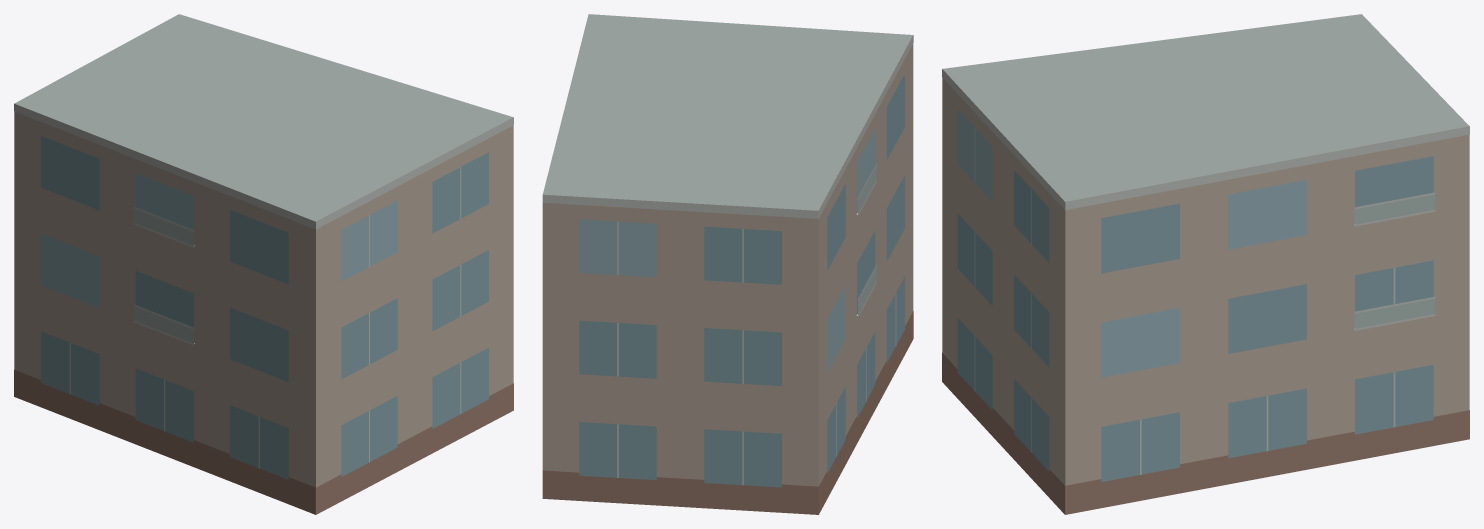
File: survey-upis-32765401.glb
3 renders of one model, left to right at view 1: azimuth 30°, elevation 25°; view 2: azimuth 150°, elevation 25°; view 3: azimuth 270°, elevation 25°, orthographic. The views are drawn at different scales.
Visible parts, largest first — view 1: survey-upis-32765401.tmp; view 2: survey-upis-32765401.tmp; view 3: survey-upis-32765401.tmp.
Part boxes in pixels (x1,y1,x2,y2): survey-upis-32765401.tmp: (14, 14, 513, 514); survey-upis-32765401.tmp: (542, 14, 913, 514); survey-upis-32765401.tmp: (942, 14, 1469, 514).
Size of the model in its own units: 11.79 by 9.15 by 13.99.
